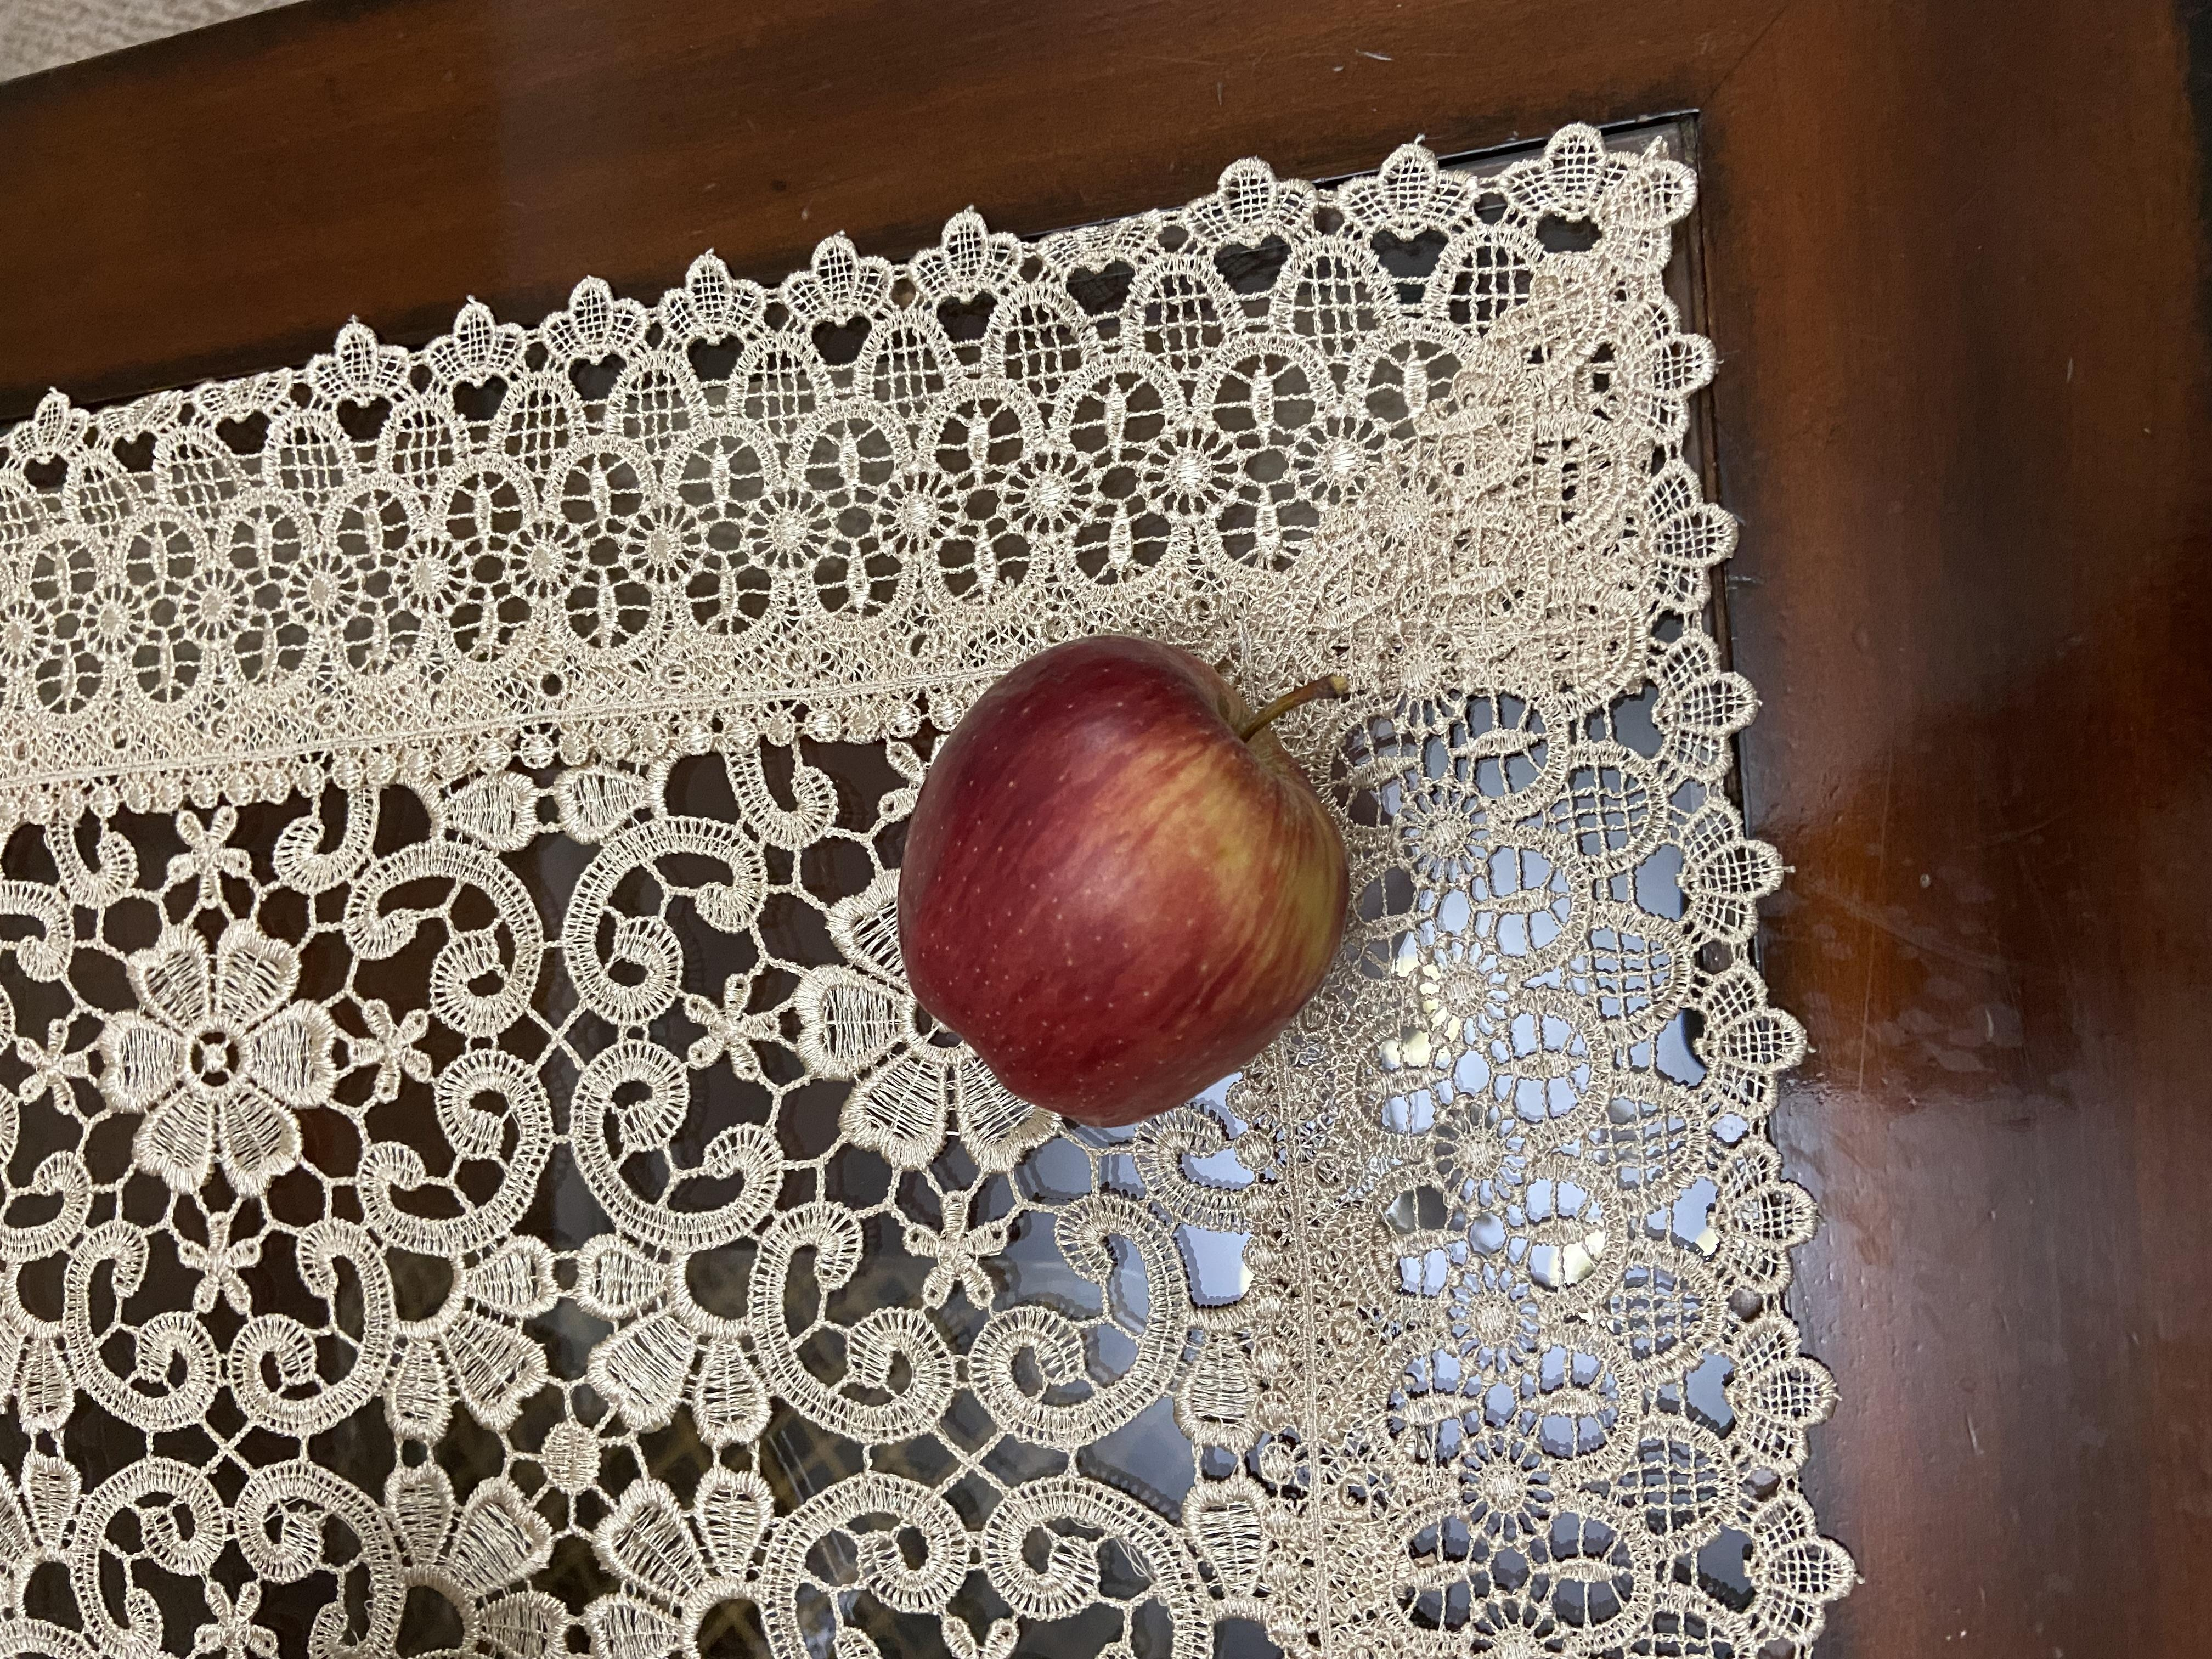Apple: (698, 666, 1390, 1025)
